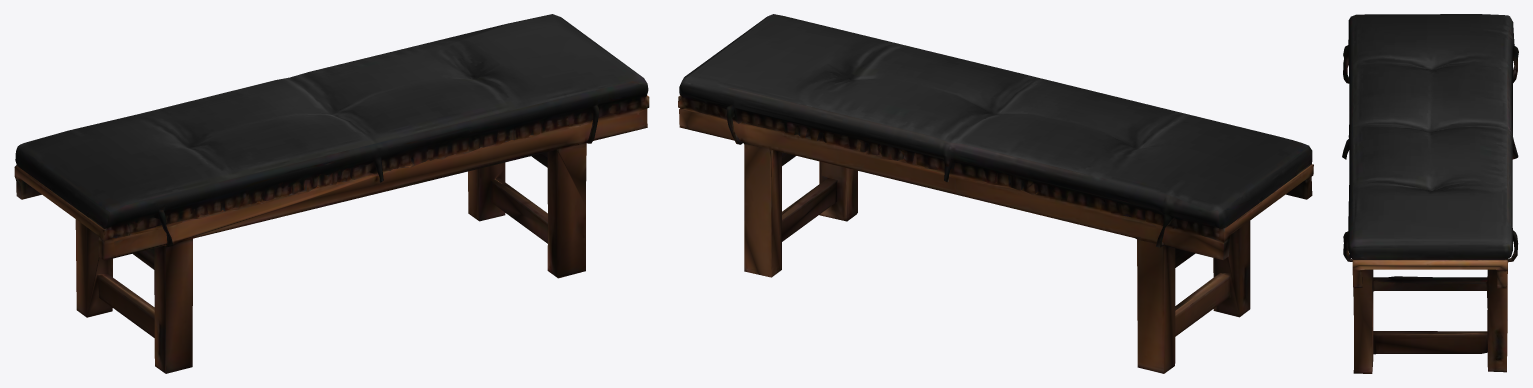
3 views of the same model, side by side, from view 1: azimuth 30°, elevation 25°; view 2: azimuth 150°, elevation 25°; view 3: azimuth 270°, elevation 25° (orthographic). The views are drawn at different scales.
Parts seen in each view (by area): view 1: geometry_0; view 2: geometry_0; view 3: geometry_0.
Part boxes in pixels (left/top/right/bottom): geometry_0: left=14, top=14, right=649, bottom=373; geometry_0: left=678, top=14, right=1313, bottom=373; geometry_0: left=1342, top=14, right=1518, bottom=373.
Size of the model in its own units: 0.9978 by 0.331 by 0.321.
Materials: 1 (1 with a texture image).
